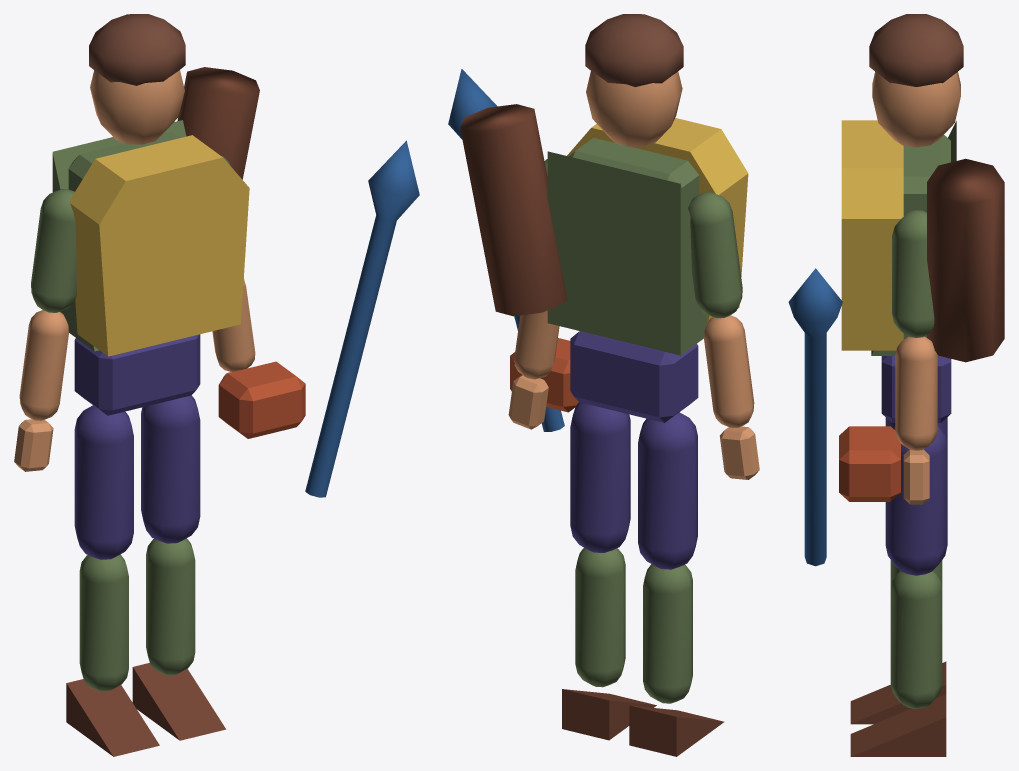
The model's file is adventurer.rustic.glb.
3 renders of one model, left to right at view 1: azimuth 30°, elevation 25°; view 2: azimuth 150°, elevation 25°; view 3: azimuth 270°, elevation 25°, orthographic.
Parts seen in each view (by area): view 1: accessory.body, accessory.main-hand, thigh.left, thigh.right, pelvis, shin.left, shin.right, accessory.back, hair, accessory.waist, head, upper-arm.left (+7 smaller); view 2: tunic, accessory.back, pelvis, thigh.left, thigh.right, shin.right, shin.left, hair, accessory.body, upper-arm.left, head, forearm.left (+8 smaller); view 3: accessory.back, accessory.body, accessory.main-hand, shin.right, thigh.right, hair, head, forearm.right, upper-arm.right, accessory.waist, foot.right, torso (+4 smaller).
Part boxes in pixels (bbox=[...]): accessory.body: bbox=[70, 135, 249, 356]; accessory.main-hand: bbox=[305, 140, 419, 497]; thigh.left: bbox=[74, 405, 133, 559]; thigh.right: bbox=[141, 395, 200, 543]; pelvis: bbox=[74, 334, 200, 415]; shin.left: bbox=[79, 554, 128, 691]; shin.right: bbox=[146, 538, 195, 675]; accessory.back: bbox=[177, 67, 259, 179]; hair: bbox=[89, 14, 185, 85]; accessory.waist: bbox=[218, 361, 305, 438]; head: bbox=[90, 70, 184, 144]; upper-arm.left: bbox=[31, 189, 76, 312]; tunic: bbox=[547, 151, 706, 355]; accessory.back: bbox=[460, 104, 567, 316]; pelvis: bbox=[570, 331, 698, 422]; thigh.left: bbox=[638, 412, 697, 569]; thigh.right: bbox=[570, 402, 630, 552]; shin.right: bbox=[575, 547, 625, 687]; shin.left: bbox=[643, 564, 692, 703]; hair: bbox=[585, 14, 683, 87]; accessory.body: bbox=[567, 118, 748, 323]; upper-arm.left: bbox=[688, 192, 742, 318]; head: bbox=[586, 71, 682, 146]; forearm.left: bbox=[704, 315, 754, 428]; accessory.back: bbox=[927, 158, 1004, 362]; accessory.body: bbox=[841, 120, 903, 350]; accessory.main-hand: bbox=[788, 268, 842, 566]; shin.right: bbox=[890, 571, 942, 709]; thigh.right: bbox=[885, 426, 947, 575]; hair: bbox=[869, 14, 963, 86]; head: bbox=[872, 72, 960, 147]; forearm.right: bbox=[895, 336, 937, 450]; upper-arm.right: bbox=[892, 210, 934, 337]; accessory.waist: bbox=[839, 426, 900, 501]; foot.right: bbox=[850, 694, 946, 756]; torso: bbox=[903, 135, 950, 214].
Bounding box in the file's own units: 1.59 × 3.03 × 0.8353.
